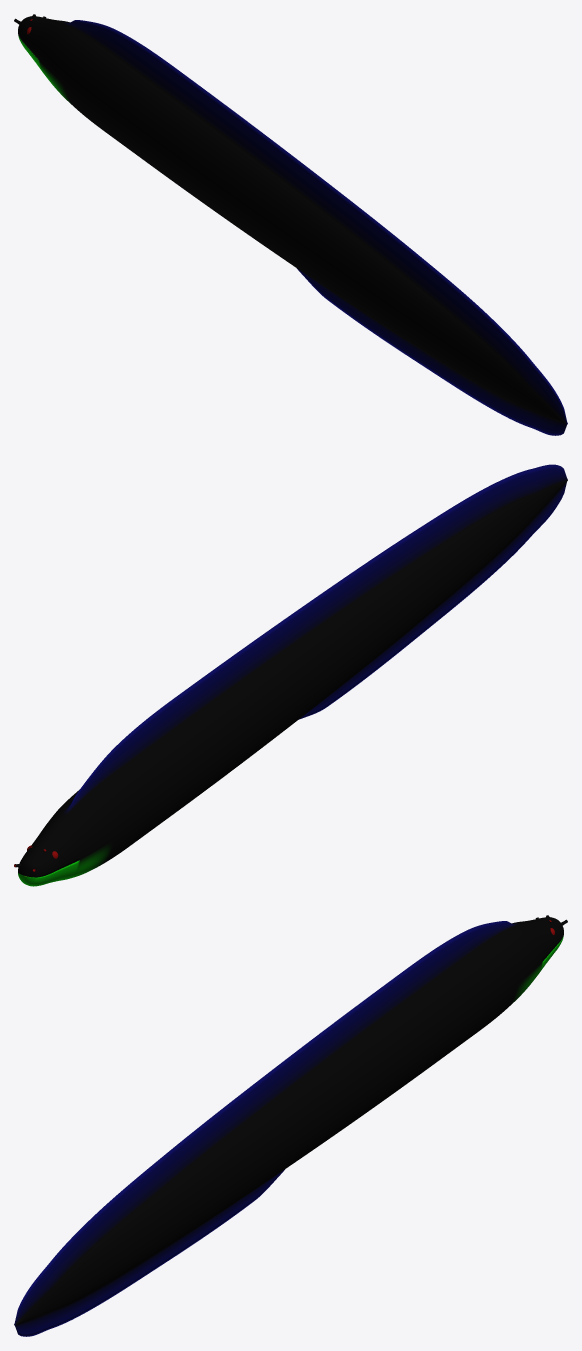
Rendered from moray_eel.glb.
The picture shows the model from 3 angles, top to bottom: view 1: azimuth 30°, elevation 25°; view 2: azimuth 150°, elevation 25°; view 3: azimuth 330°, elevation 25°; orthographic projection.
Parts seen in each view (by area): view 1: moray_eel; view 2: moray_eel; view 3: moray_eel.
Part boxes in pixels (<box>): moray_eel: <box>14,14,567,435</box>; moray_eel: <box>14,464,567,886</box>; moray_eel: <box>14,915,567,1336</box>.
Bounding box in the file's own units: 0.096 × 0.2216 × 1.8.
